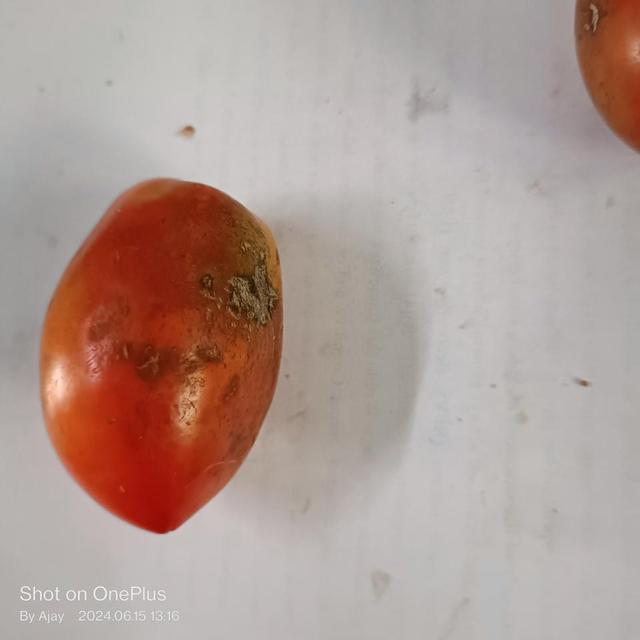Bacterial Spot Fruit: (52, 30, 160, 238)
